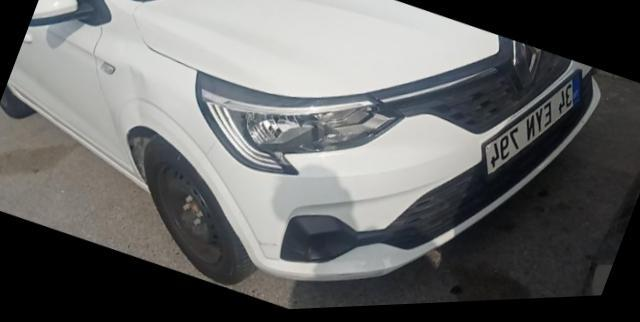dent: (119, 63, 153, 122)
